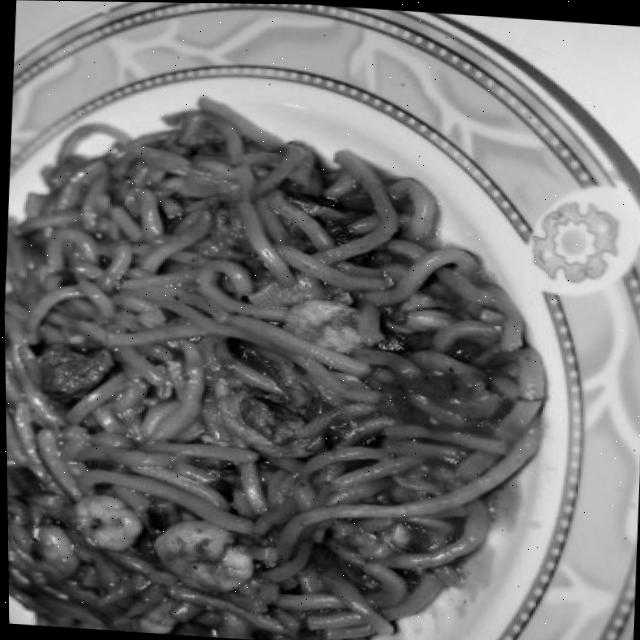面条主食: (1, 101, 590, 640)
